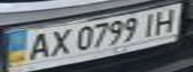0: (72, 23, 96, 53)
7: (90, 20, 112, 51)
9: (106, 17, 127, 47), (121, 15, 142, 44)
A: (21, 29, 54, 62)
H: (151, 6, 181, 36)
I: (136, 10, 160, 38)
X: (45, 26, 72, 59)
